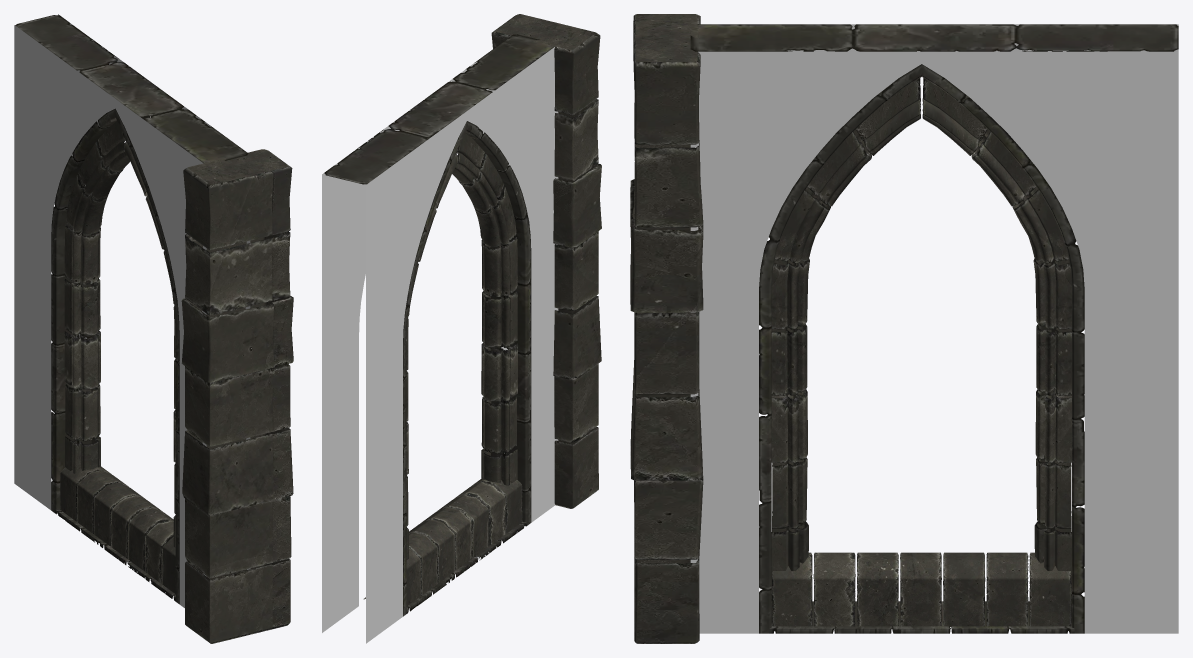
3 views of the same model, side by side, from view 1: azimuth 30°, elevation 25°; view 2: azimuth 150°, elevation 25°; view 3: azimuth 270°, elevation 25° (orthographic). The views are drawn at different scales.
Visible parts, largest first — view 1: SM_Greathall_Wall_8x10_02_LOD0; view 2: SM_Greathall_Wall_8x10_02_LOD0; view 3: SM_Greathall_Wall_8x10_02_LOD0.
Part boxes in pixels (<box>): SM_Greathall_Wall_8x10_02_LOD0: <box>14,14,293,643</box>; SM_Greathall_Wall_8x10_02_LOD0: <box>322,14,601,643</box>; SM_Greathall_Wall_8x10_02_LOD0: <box>630,14,1178,643</box>.
Size of the model in its own units: 1.99 by 10 by 8.54.
3 materials, 2 textured.
